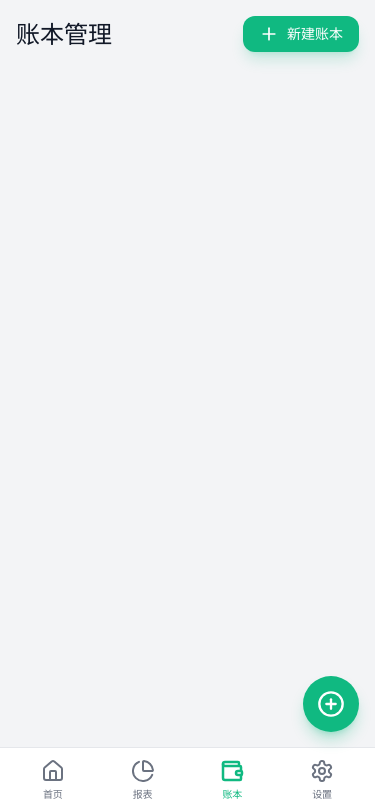
it: Account Management › should create a new account
Click the button "新建账本" at x=301, y=34, box [243, 16, 359, 52]
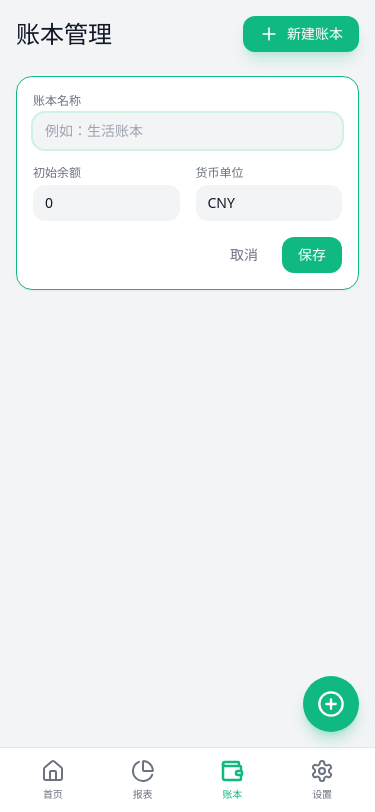
Type "Test Bank" into the field named "name" at x=188, y=131, box [33, 113, 342, 149]
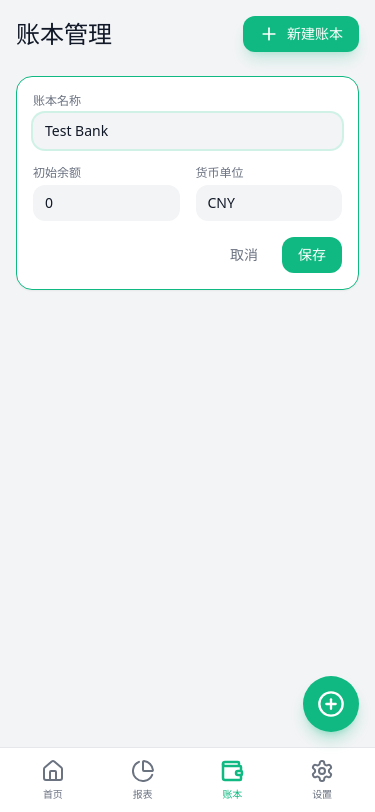
Replace the text in the number field named "initialBalance" with "1000" at x=107, y=203, box [33, 185, 180, 221]
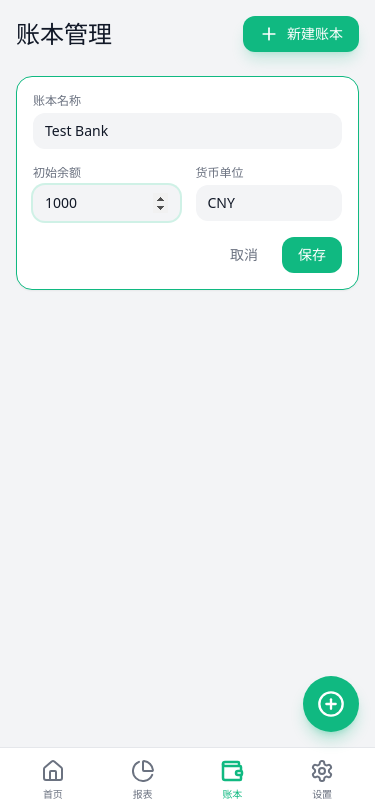
Type "USD" into the field named "currency" below "货币单位" at x=270, y=203, box [196, 185, 343, 221]
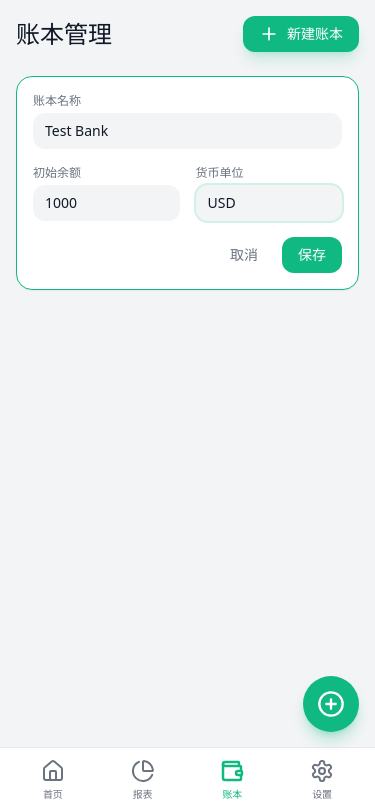
Click the button "保存" at x=312, y=255, box [282, 237, 342, 273]
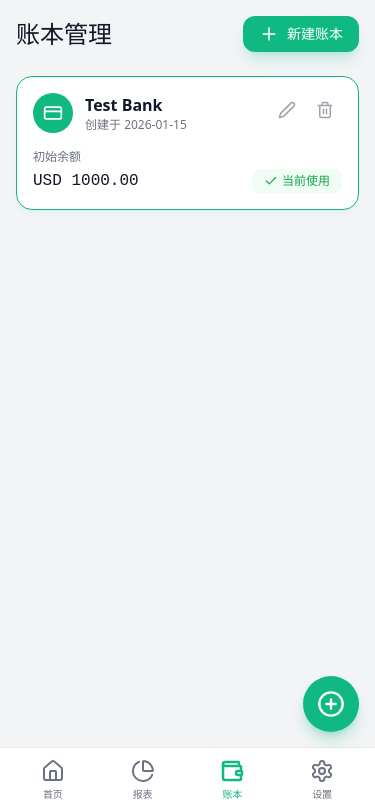
Now the heading "Test Bank" is shown, box [85, 94, 162, 116]
Now the text "USD 1000.00" is shown, box [33, 169, 139, 193]
